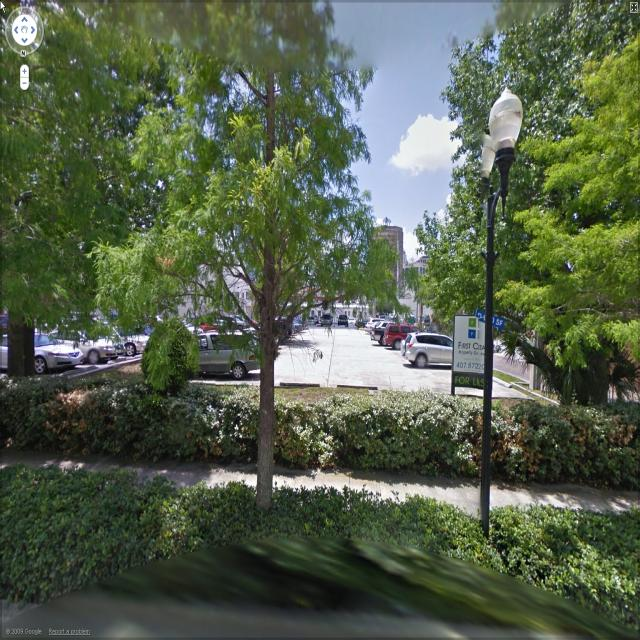b_2: (368, 215, 405, 321)
